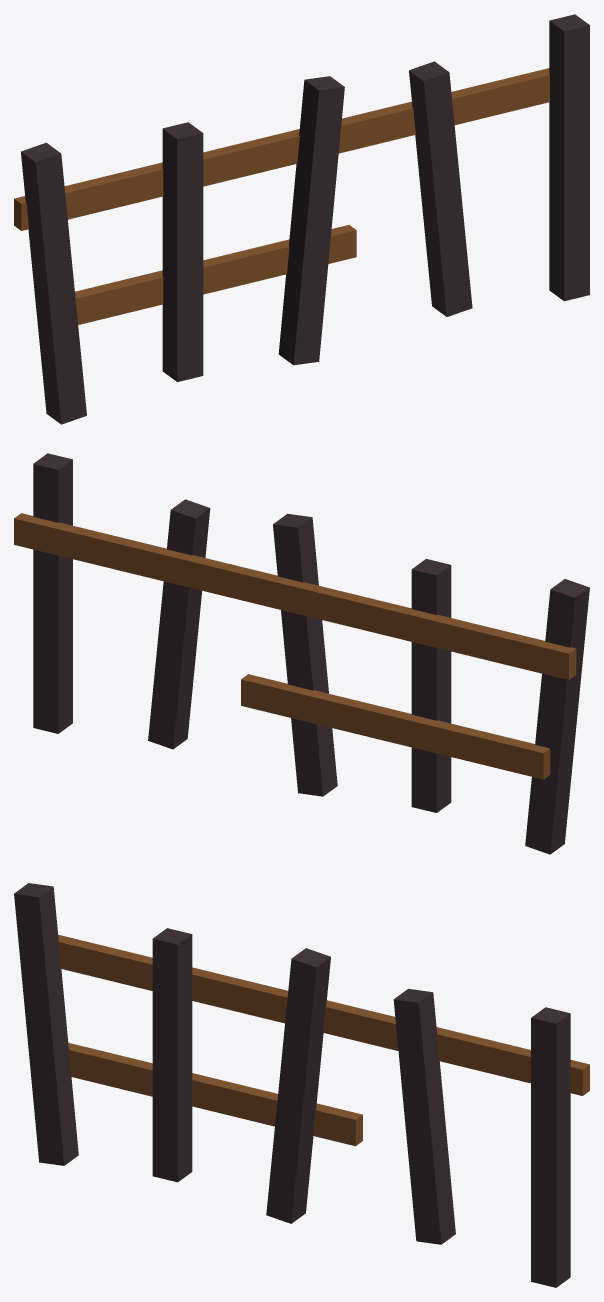
File: broken_fence.glb
3 renders of one model, top to bottom at view 1: azimuth 30°, elevation 25°; view 2: azimuth 150°, elevation 25°; view 3: azimuth 330°, elevation 25°, orthographic. The views are drawn at different scales.
Visible parts, largest first — view 1: broken_fence; view 2: broken_fence; view 3: broken_fence.
Part boxes in pixels (x1=…): broken_fence: x1=14, y1=14, x2=589, y2=424; broken_fence: x1=14, y1=453, x2=589, y2=854; broken_fence: x1=14, y1=883, x2=589, y2=1287.
Size of the model in its own units: 2.2 by 1 by 0.145.
